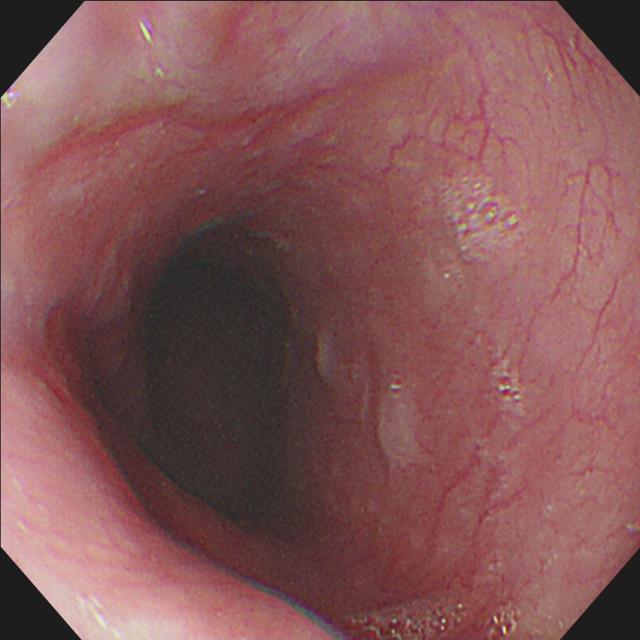E: (136, 226, 301, 534)
T: (348, 595, 521, 640), (442, 174, 527, 254), (490, 356, 528, 414)
U: (139, 19, 157, 49), (2, 90, 21, 112)
